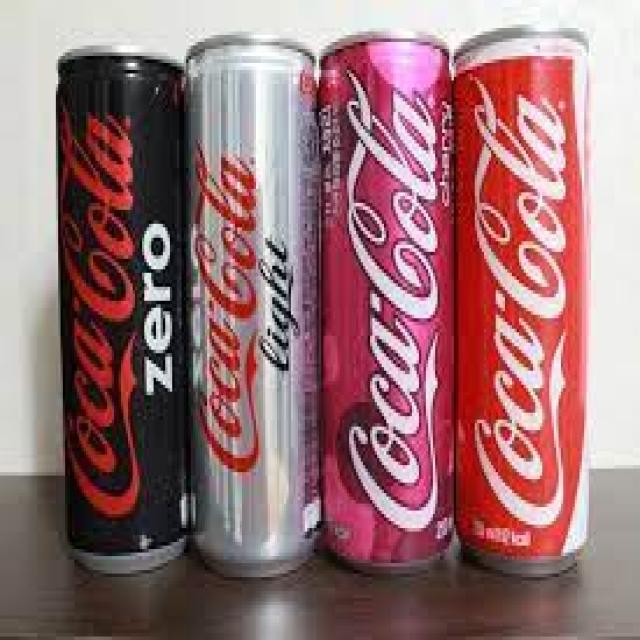Coca-Cola: (452, 24, 602, 578)
